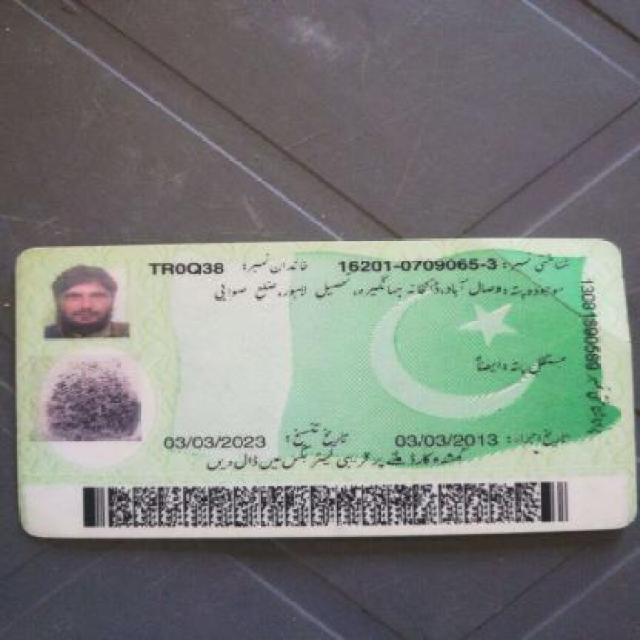Back: (8, 231, 628, 538)
